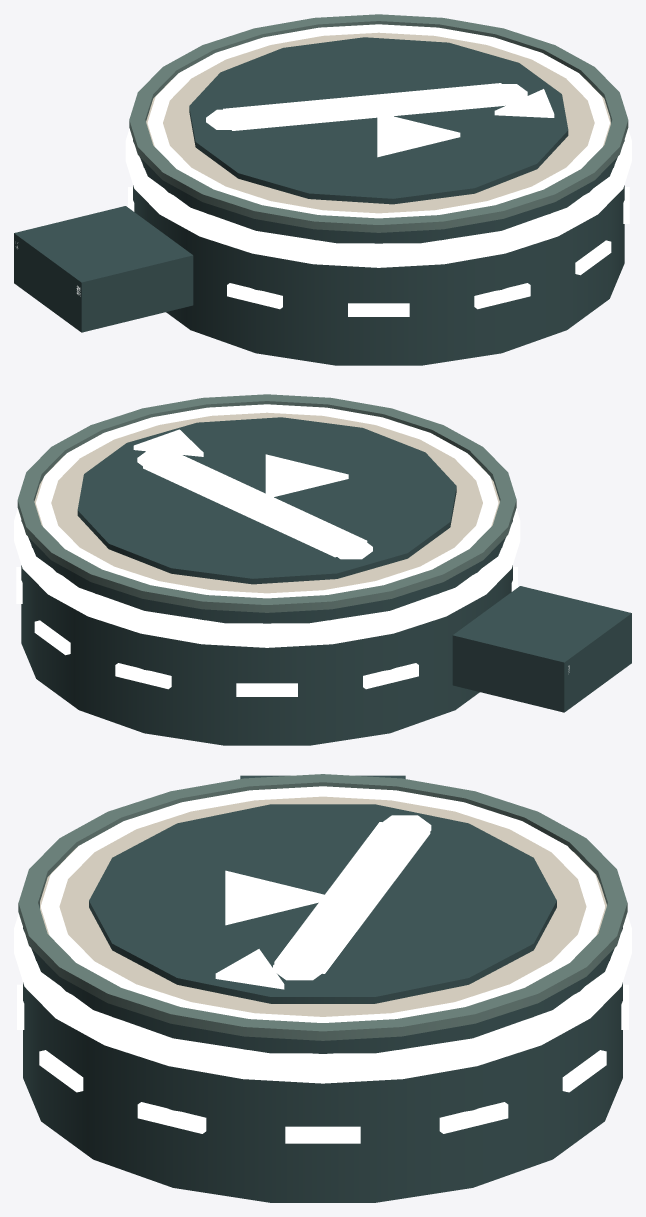
The model's file is Relay_Button_Tilt_v3_lab.glb.
3 renders of one model, top to bottom at view 1: azimuth 30°, elevation 25°; view 2: azimuth 150°, elevation 25°; view 3: azimuth 270°, elevation 25°, orthographic. The views are drawn at different scales.
Parts seen in each view (by area): view 1: Relay_Button_Tilt_v3, Glyph, Strut; view 2: Relay_Button_Tilt_v3, Glyph, Strut; view 3: Relay_Button_Tilt_v3, Glyph.
Part boxes in pixels (x1=…): Relay_Button_Tilt_v3: x1=125, y1=14, x2=631, y2=365; Glyph: x1=189, y1=37, x2=568, y2=204; Strut: x1=14, y1=206, x2=193, y2=332; Relay_Button_Tilt_v3: x1=14, y1=394, x2=520, y2=745; Glyph: x1=77, y1=417, x2=456, y2=584; Strut: x1=452, y1=586, x2=631, y2=712; Relay_Button_Tilt_v3: x1=14, y1=774, x2=631, y2=1202; Glyph: x1=89, y1=804, x2=556, y2=1003.
Bounding box in the file's own units: 5.17 × 2.05 × 4.12.
